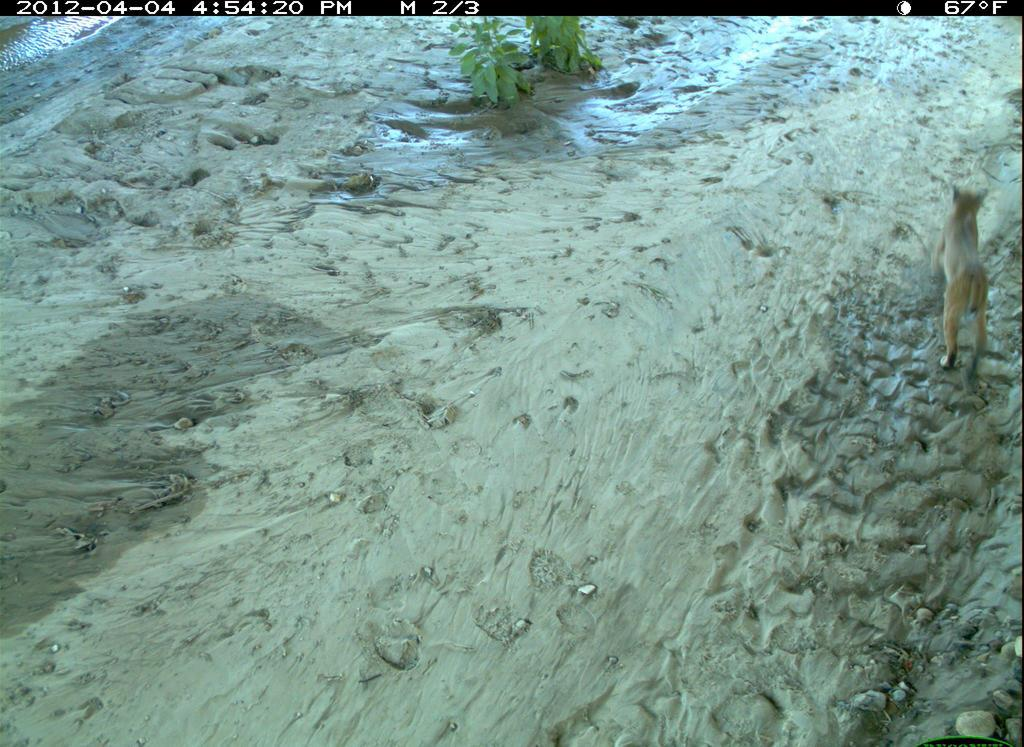bobcat: (931, 177, 996, 391)
